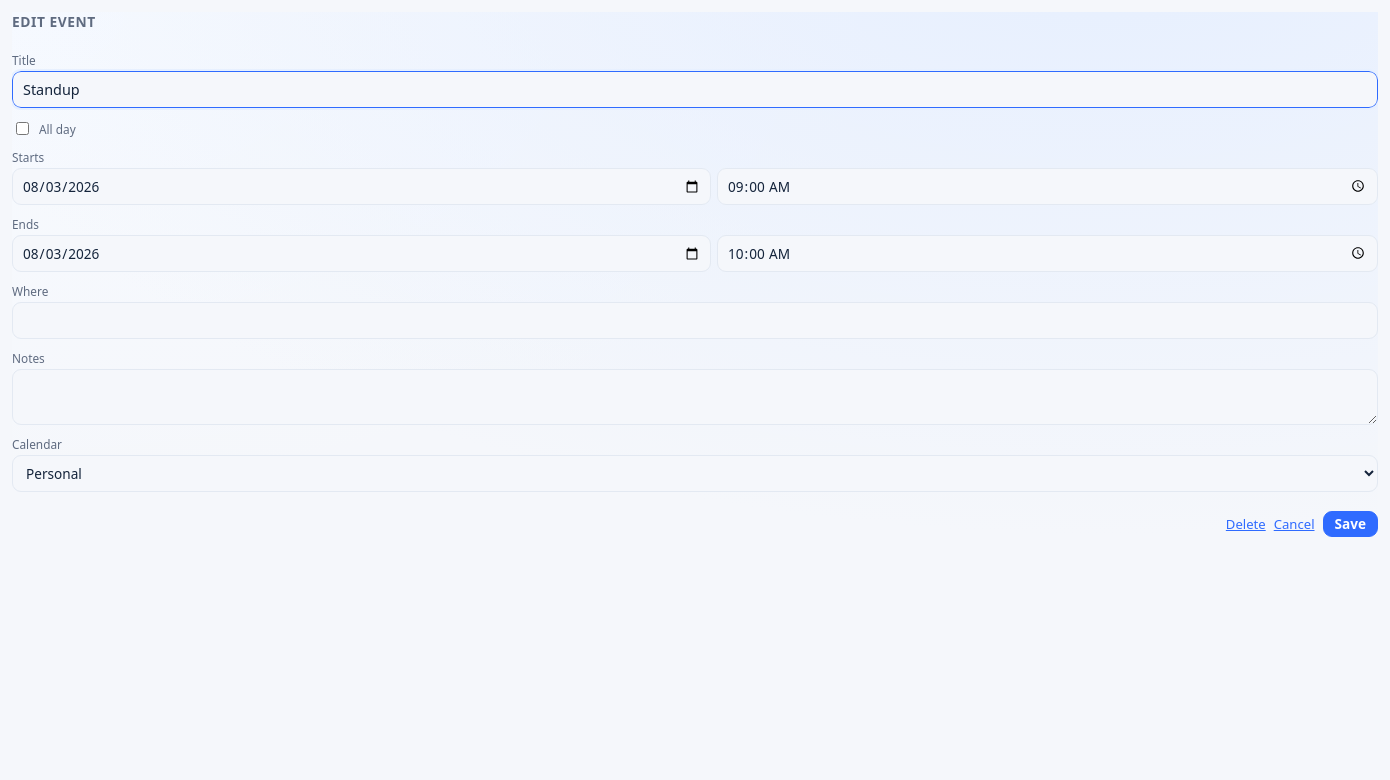
Test case: EventForm deleting › backs out of a delete on Keep
Click the button "Delete".
click(1246, 524)  # box [1226,515,1266,533]
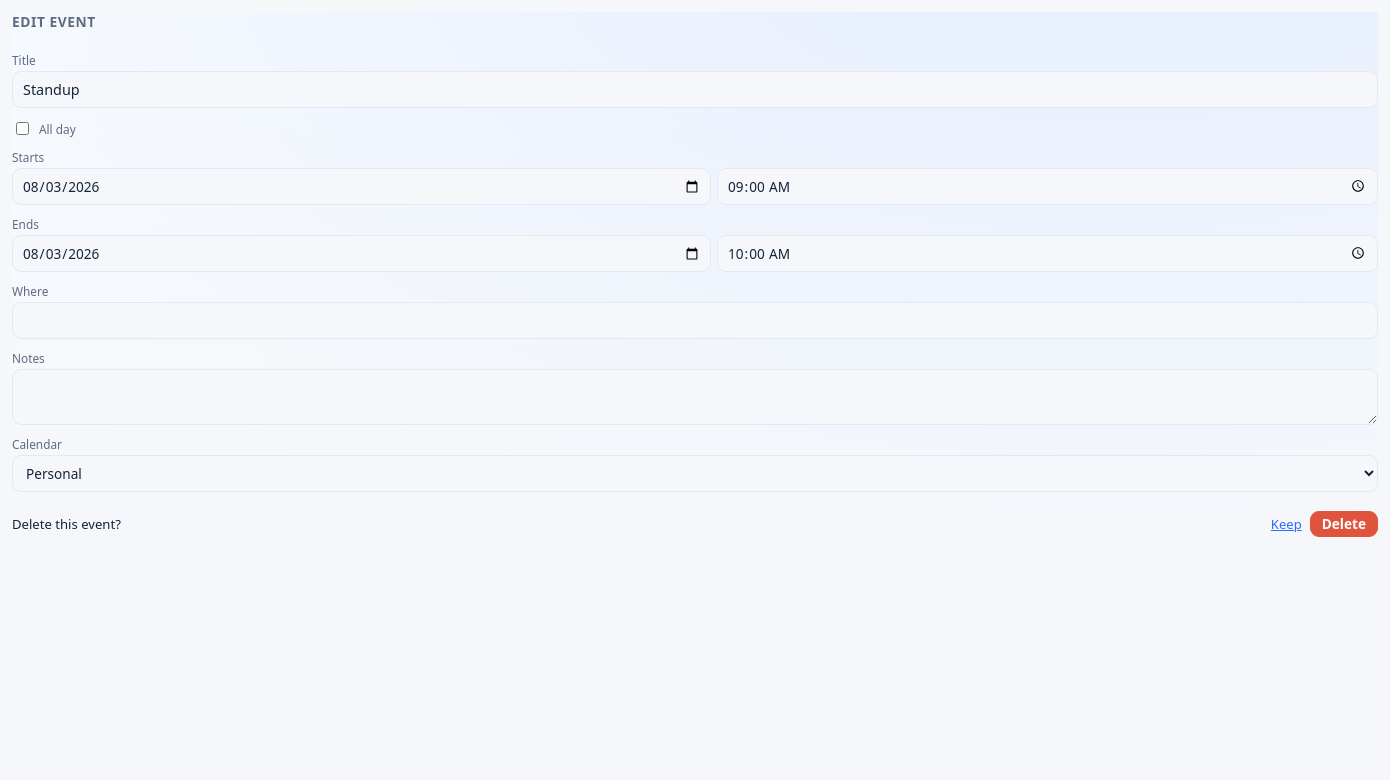
Click the button "Keep".
click(1286, 524)  # box [1271,515,1302,533]
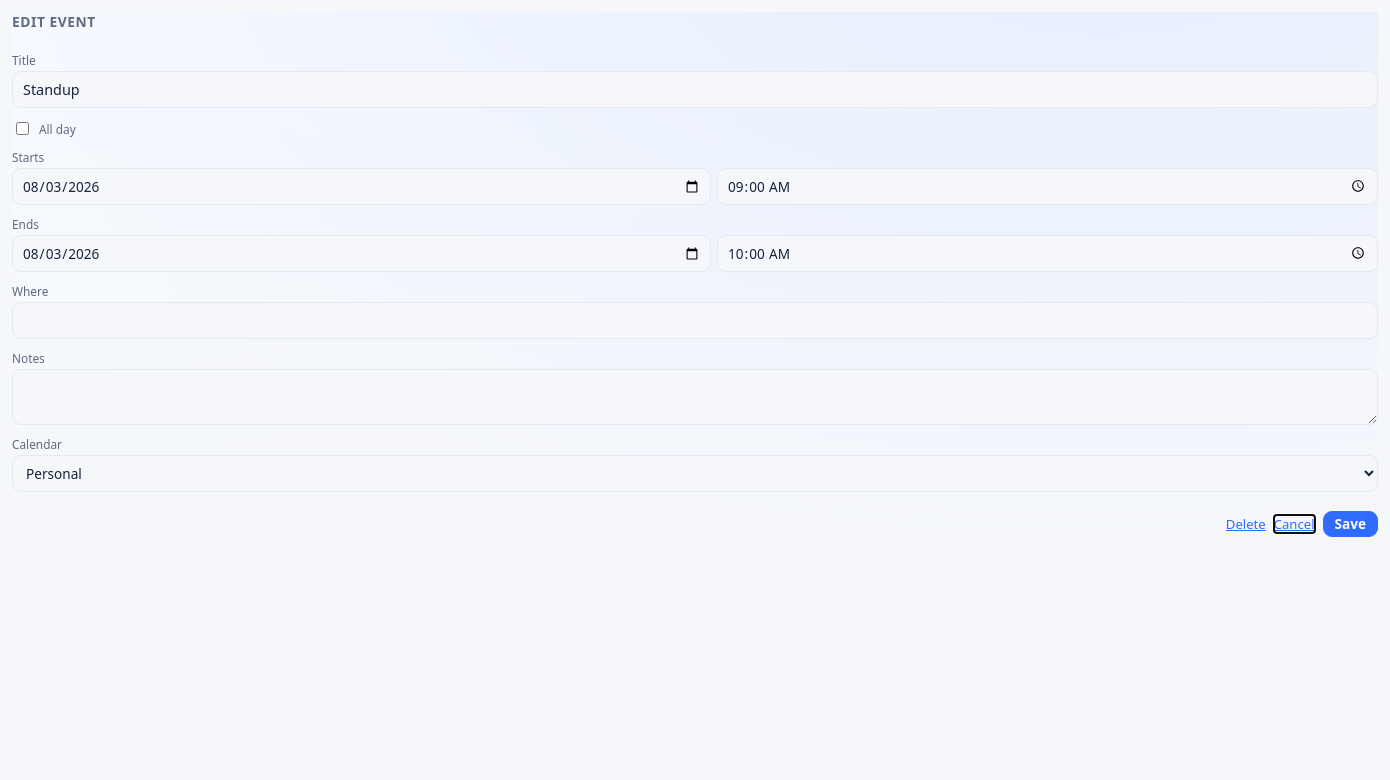
Now the text "Delete this event?" is gone
Now the button "Save" is shown, box [1322,511,1378,537]
